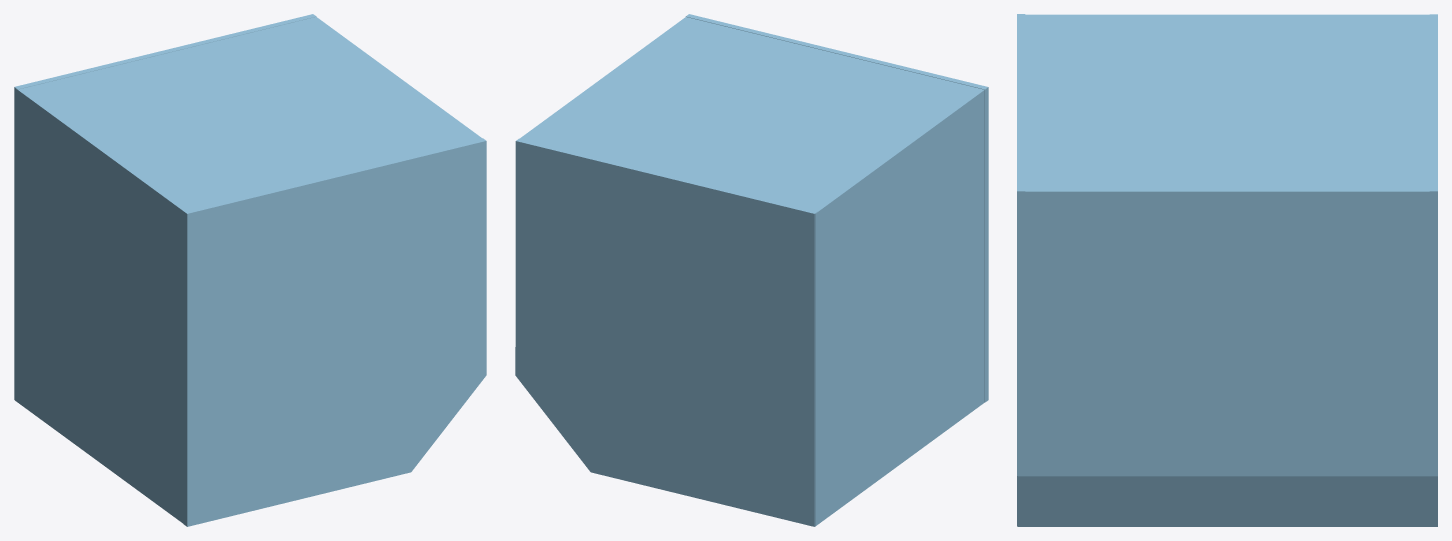
Rendered from small_tank_walls.dae.
3 renders of one model, left to right at view 1: azimuth 30°, elevation 25°; view 2: azimuth 150°, elevation 25°; view 3: azimuth 270°, elevation 25°, orthographic. The views are drawn at different scales.
Visible parts, largest first — view 1: ID2; view 2: ID2; view 3: ID2.
Boxes of the visible parts, <box> form: ID2: <box>14,14,486,526</box>; ID2: <box>515,14,988,526</box>; ID2: <box>1017,14,1437,526</box>.
Size of the model in its own units: 10.03 by 10.05 by 10.01.
